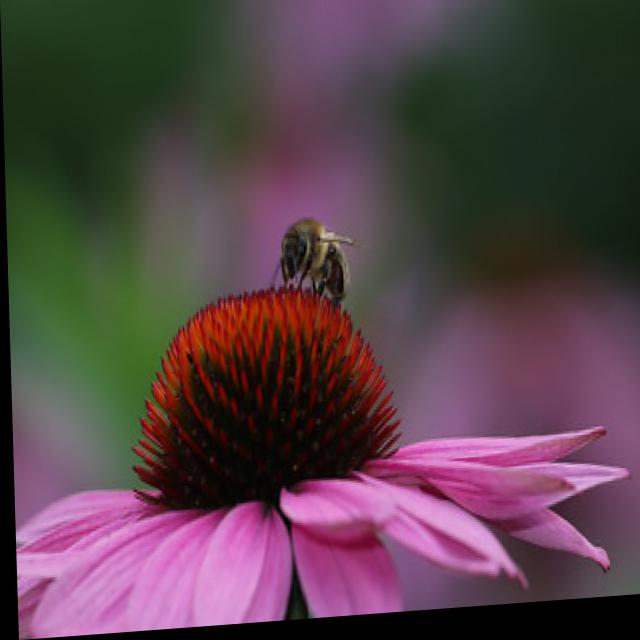Abeille: (264, 202, 360, 313)
